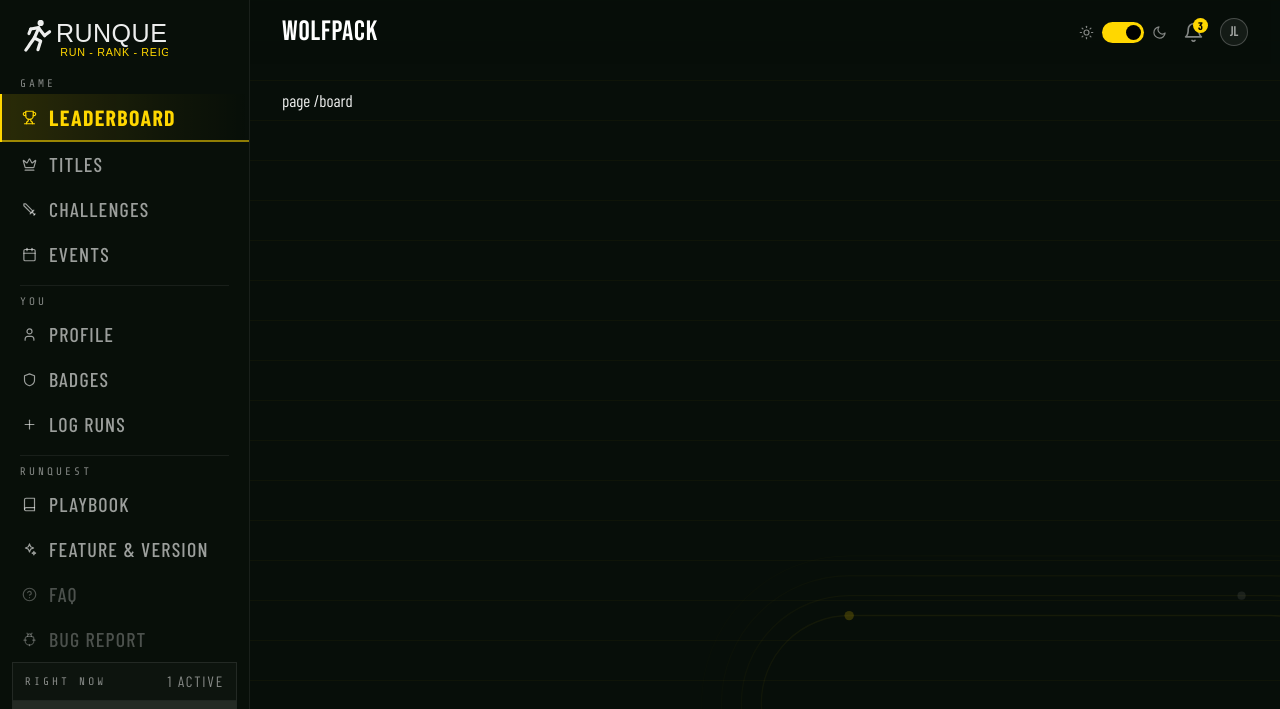
Scenario: popovern › ett laddningsfel i inställningarna använder defaults och popovern öppnas ändå
The width and height of the screenshot is (1280, 709).
Click the button "3" at (1194, 32), box [1183, 22, 1204, 42]
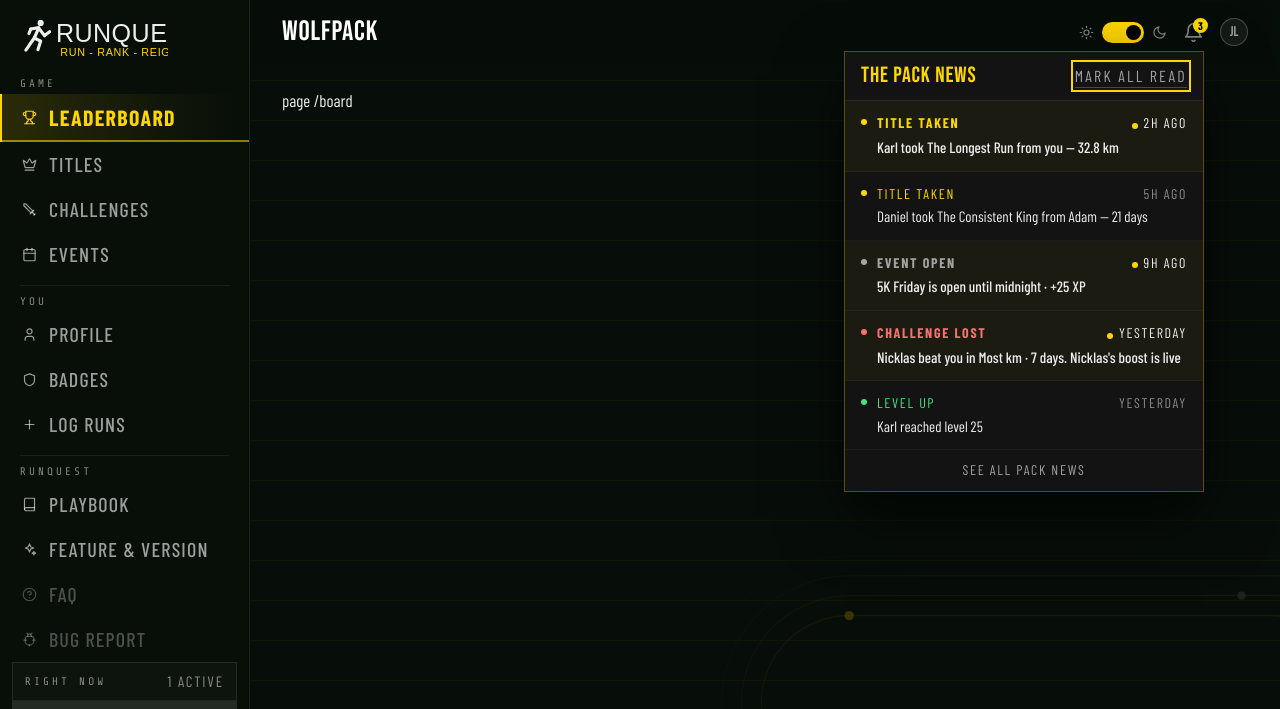
Expected: the text "Daniel took The Consistent King from Adam — 21 days" is shown, [877, 206, 1187, 228]
Expected: the link "See all pack news" is shown, [963, 461, 1085, 478]
